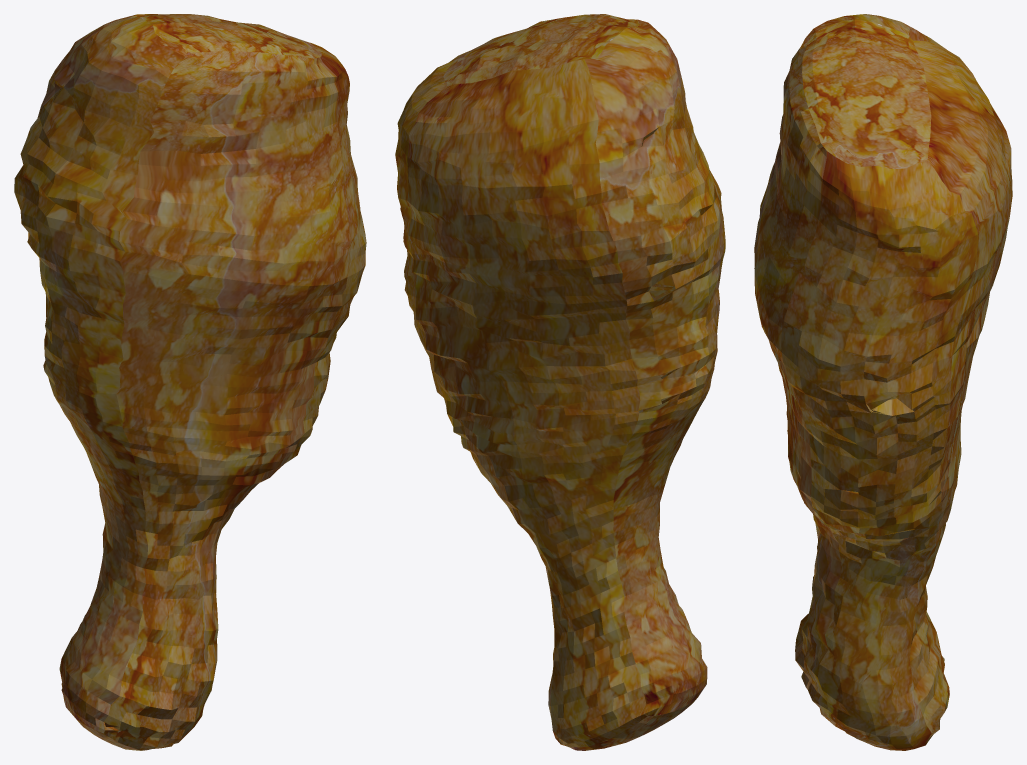
Rendered from beforeSolidify.glb.
3 views of the same model, side by side, from view 1: azimuth 30°, elevation 25°; view 2: azimuth 150°, elevation 25°; view 3: azimuth 270°, elevation 25° (orthographic). The views are drawn at different scales.
Visible parts, largest first — view 1: Cube; view 2: Cube; view 3: Cube.
Part boxes in pixels (x1=…): Cube: x1=14, y1=14, x2=366, y2=750; Cube: x1=395, y1=14, x2=725, y2=750; Cube: x1=754, y1=14, x2=1012, y2=750.
Bounding box in the file's own units: 1.07 × 2.39 × 0.7786.
1 material, 1 textured.
